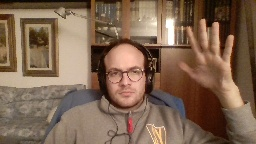Mano_aperta: (173, 17, 235, 93)
